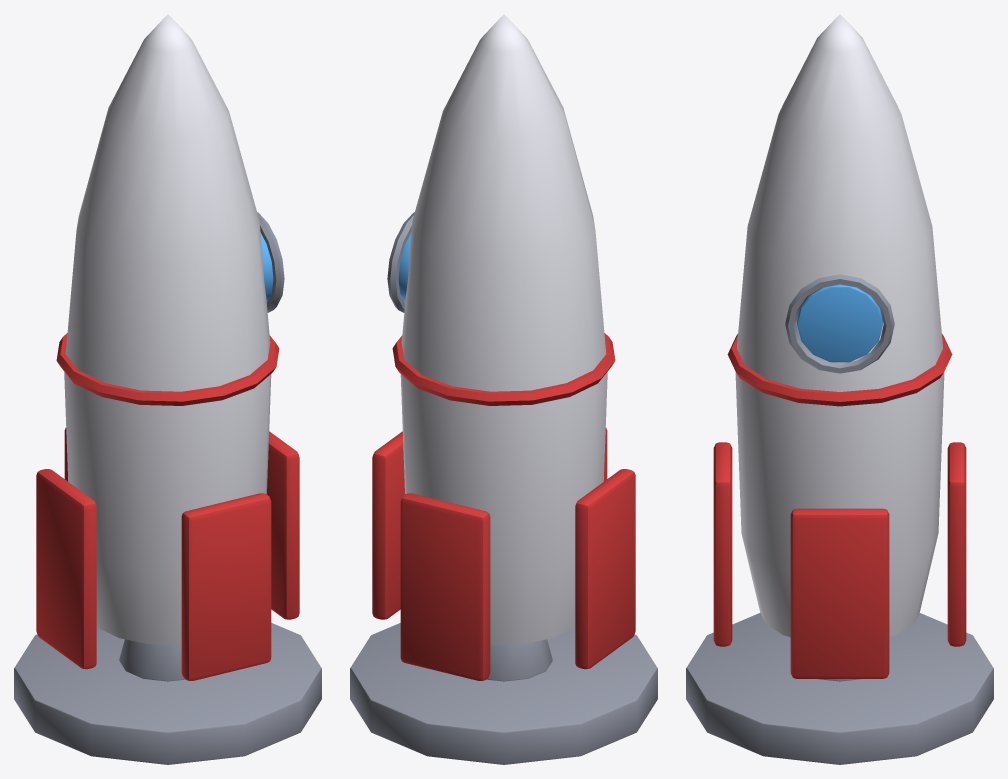
Rendered from HeroSpace.fbx.
3 views of the same model, side by side, from view 1: azimuth 30°, elevation 25°; view 2: azimuth 150°, elevation 25°; view 3: azimuth 270°, elevation 25° (orthographic).
Parts seen in each view (by area): view 1: HeroSpace; view 2: HeroSpace; view 3: HeroSpace.
Part boxes in pixels (x1,y1,x2,y2): HeroSpace: (14,14,321,764); HeroSpace: (350,14,657,764); HeroSpace: (686,14,993,764).
Size of the model in its own units: 500 by 1230 by 500.
